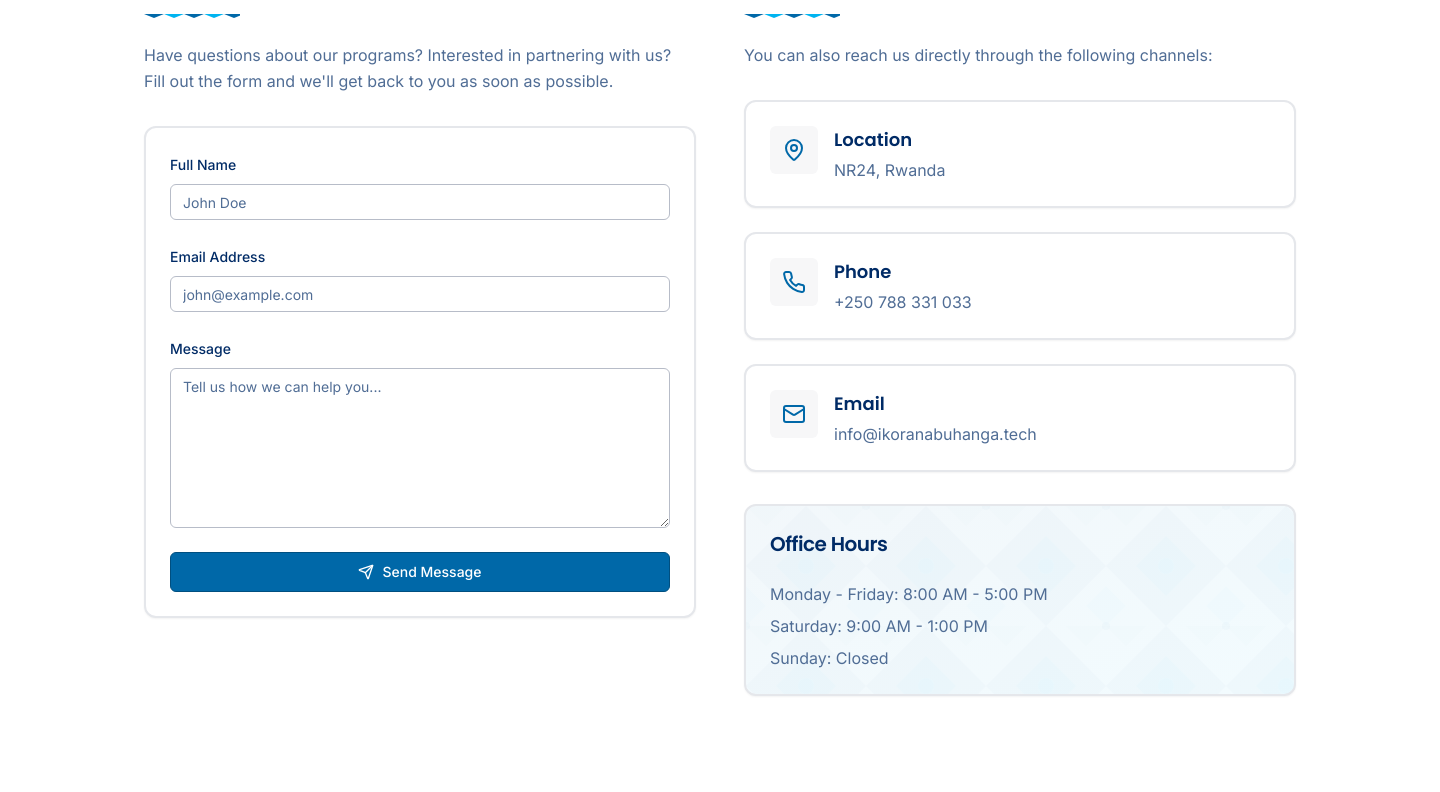
Scenario: Contact Page › shows validation errors for empty submission
(page scrolled)
What coordinates should you click on to do the following:
click the button with test id "button-send-message"
I would click on:
 (420, 572)
Its box is [170,552,670,592].
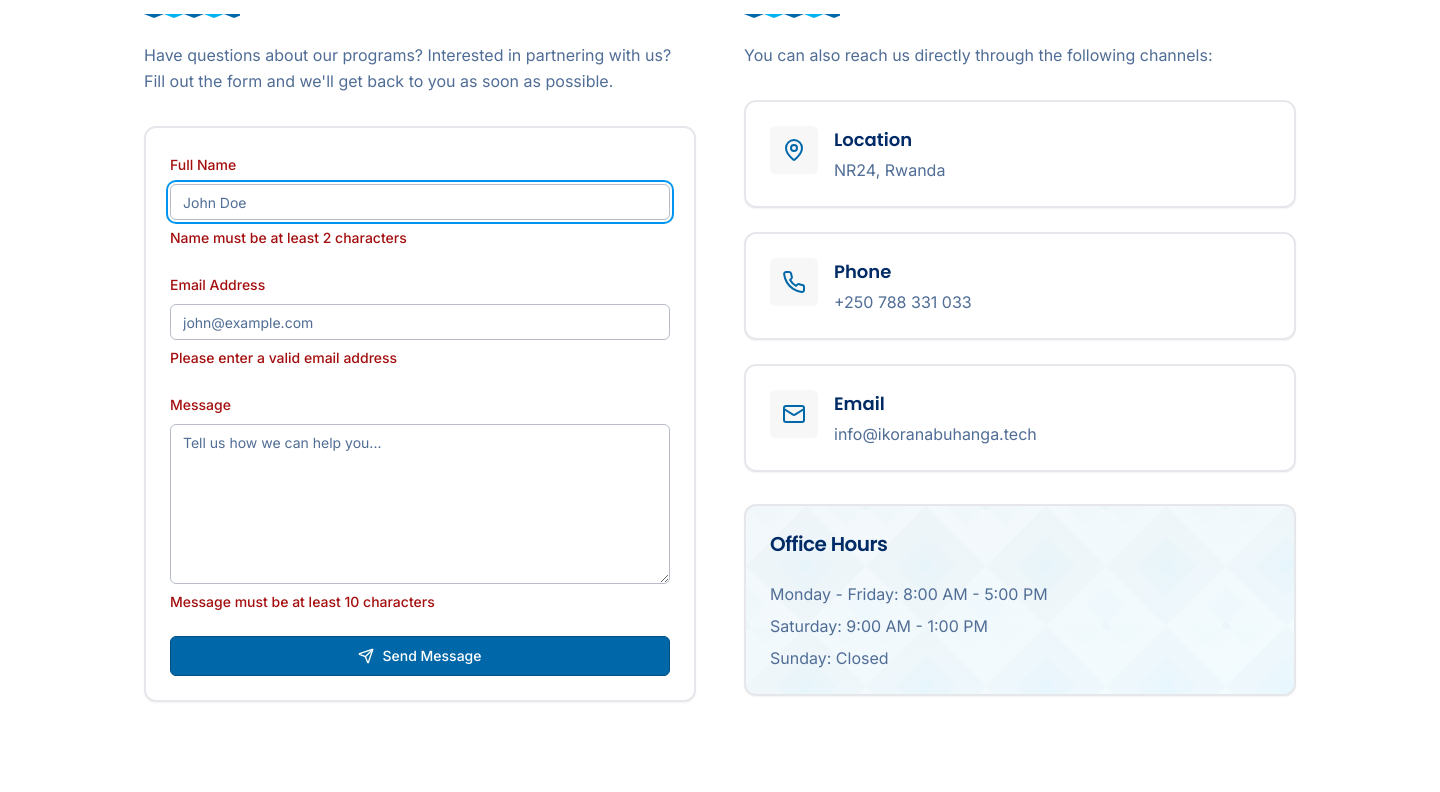
Expected: the text "Name must be at least 2 characters" is shown, [170,229,407,246]
Expected: the text "Please enter a valid email address" is shown, [170,349,397,366]
Expected: the text "Message must be at least 10 characters" is shown, [170,593,435,610]
